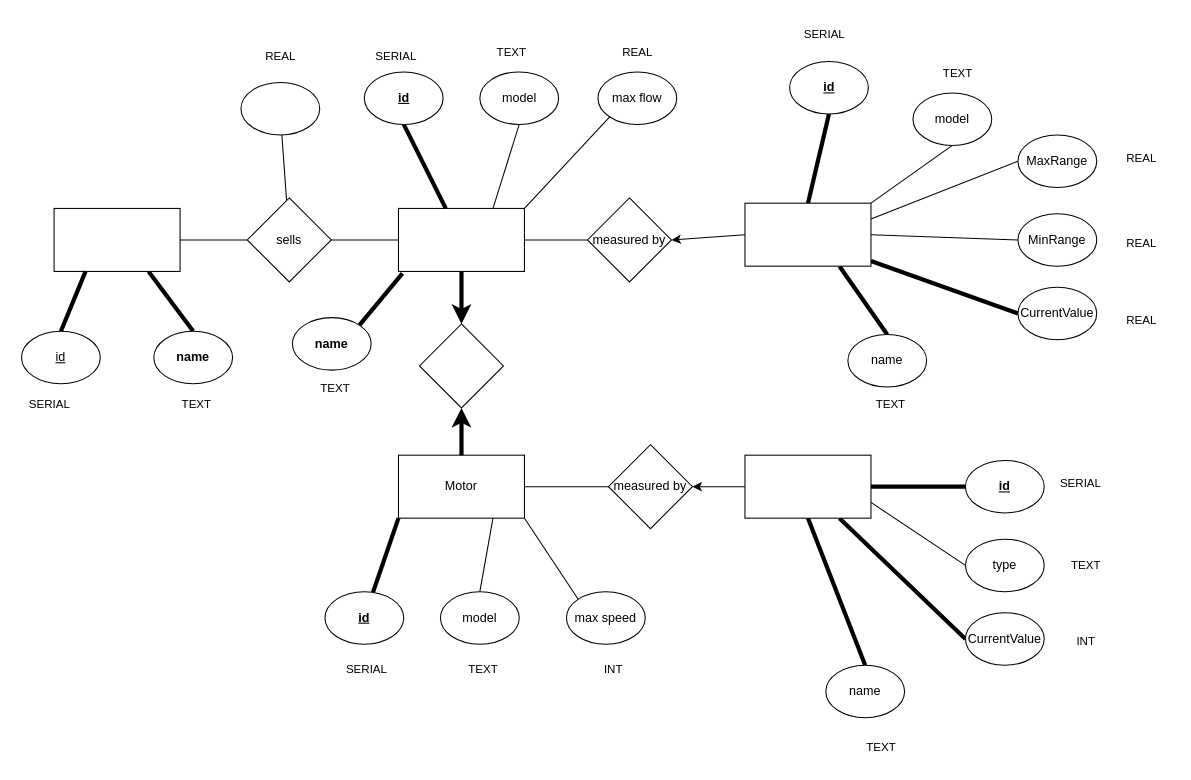
The diagram is 1191 pixels wide and 780 high, and some of its shapes have lost their labels. The shapes that lost their labels are listed below. From the top down, each one's centre as x and y in pixels, then its label:
At point (280, 108): "price".
At point (116, 239): "Vendor".
At point (460, 239): "Pump".
At point (807, 234): "Flow Sensor".
At point (460, 365): "driven by".
At point (807, 486): "Speed Sensor".
